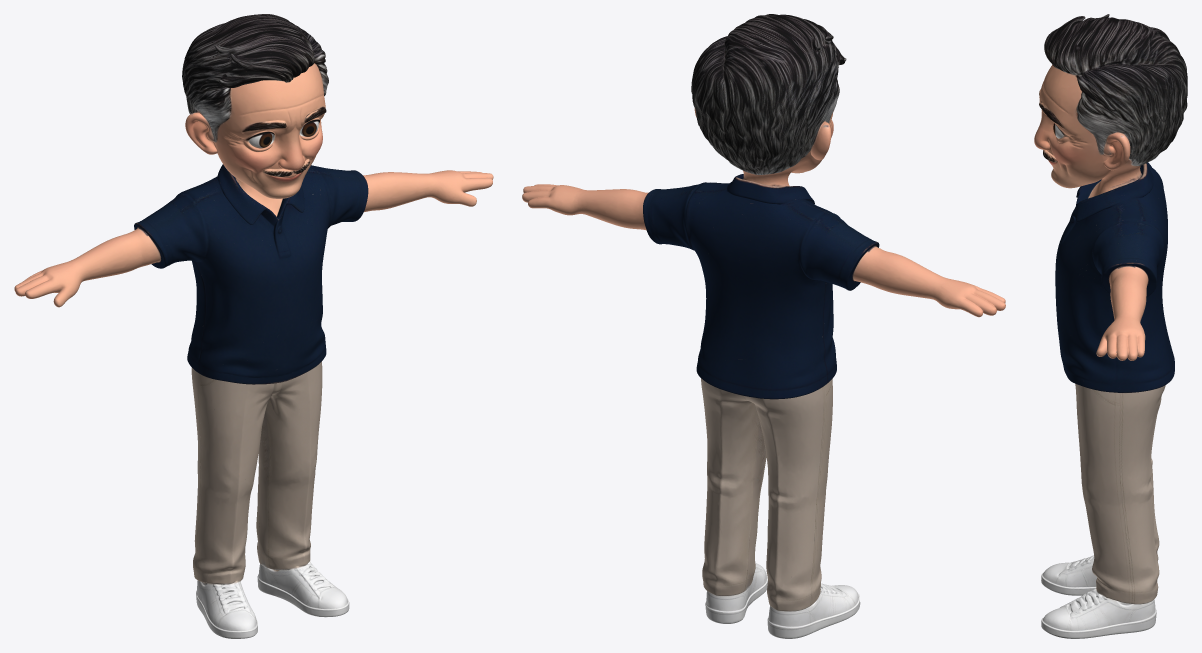
Rendered from Meshy_AI_Friendly_T_Pose_Gentleman_20261030_texture.fbx.
The picture shows the model from 3 angles, left to right: view 1: azimuth 30°, elevation 25°; view 2: azimuth 150°, elevation 25°; view 3: azimuth 270°, elevation 25°; orthographic projection.
Parts seen in each view (by area): view 1: Mesh_0; view 2: Mesh_0; view 3: Mesh_0.
Part boxes in pixels (x1,y1,x2,y2): Mesh_0: [14, 14, 493, 638]; Mesh_0: [522, 14, 1005, 638]; Mesh_0: [1034, 14, 1187, 638].
Size of the model in its own units: 163 by 190 by 45.36.
Materials: 1 (1 with a texture image).
